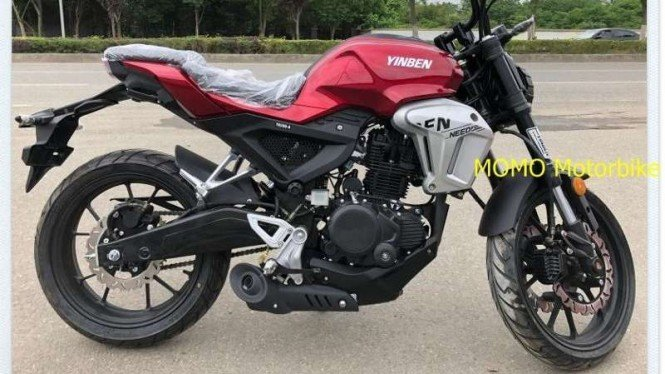motor: (26, 25, 629, 371)
